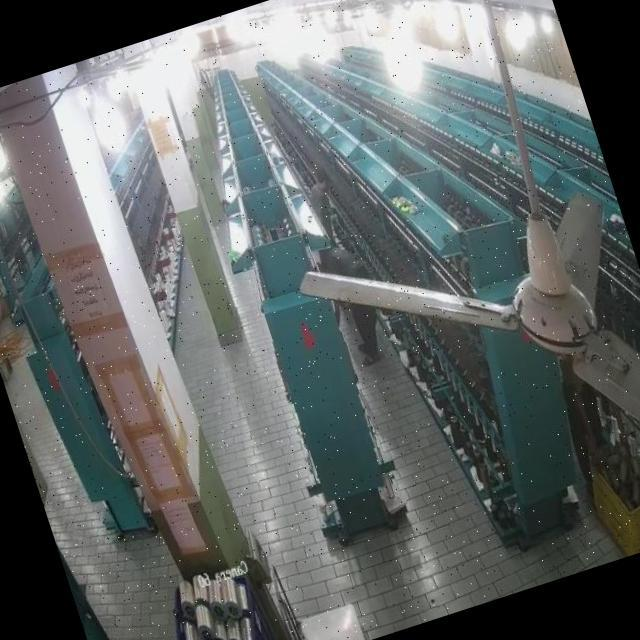person: (306, 230, 378, 340), (556, 363, 626, 476), (296, 167, 348, 246)
